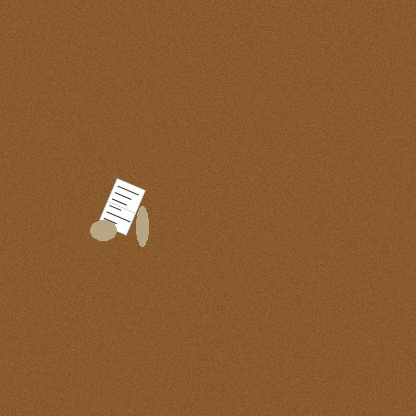cheat_chit: (97, 178, 146, 236)
